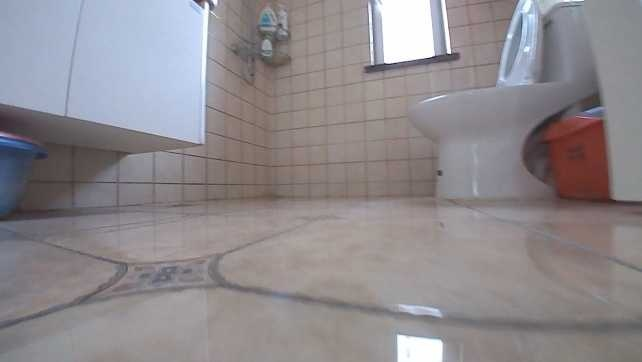toilet: (410, 0, 599, 202)
